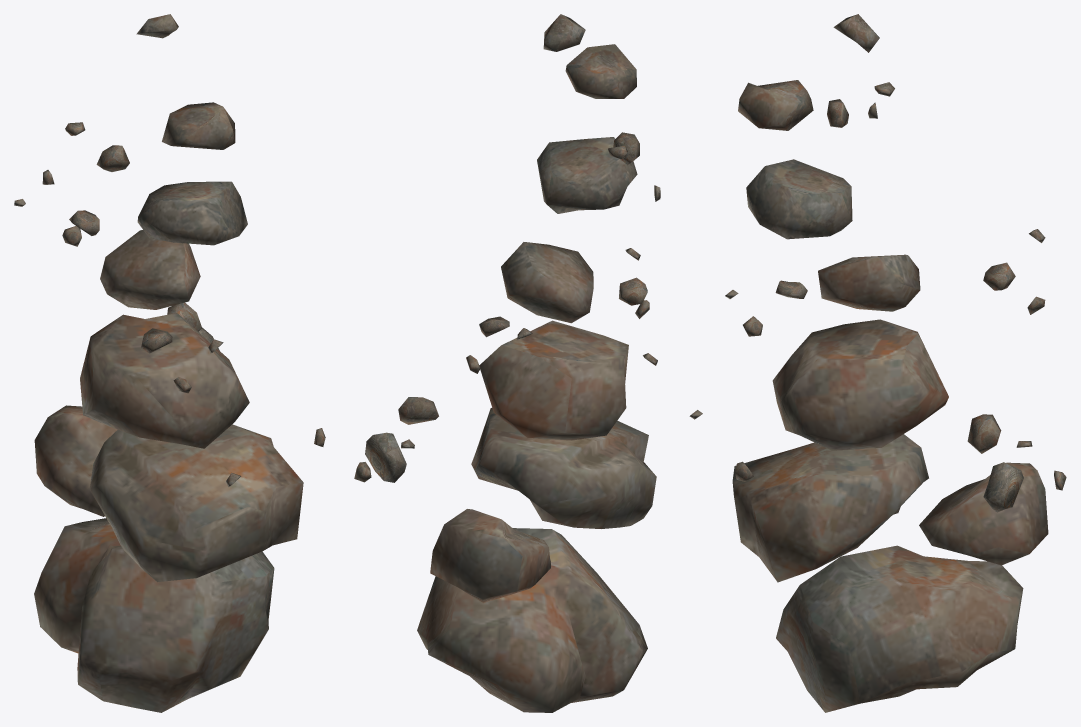
Rendered from bg_rad_kamen_rockdeco01_sm.obj.
3 views of the same model, side by side, from view 1: azimuth 30°, elevation 25°; view 2: azimuth 150°, elevation 25°; view 3: azimuth 270°, elevation 25° (orthographic). The views are drawn at different scales.
Parts seen in each view (by area): view 1: bg_rad_kamen_rockdeco01_sm_0; view 2: bg_rad_kamen_rockdeco01_sm_0; view 3: bg_rad_kamen_rockdeco01_sm_0.
Part boxes in pixels (bbox=[...]): bg_rad_kamen_rockdeco01_sm_0: bbox=[14, 14, 325, 712]; bg_rad_kamen_rockdeco01_sm_0: bbox=[354, 14, 660, 712]; bg_rad_kamen_rockdeco01_sm_0: bbox=[689, 14, 1066, 712].
Bounding box in the file's own units: 0.6346 × 1.75 × 0.87.
1 material, 1 textured.
